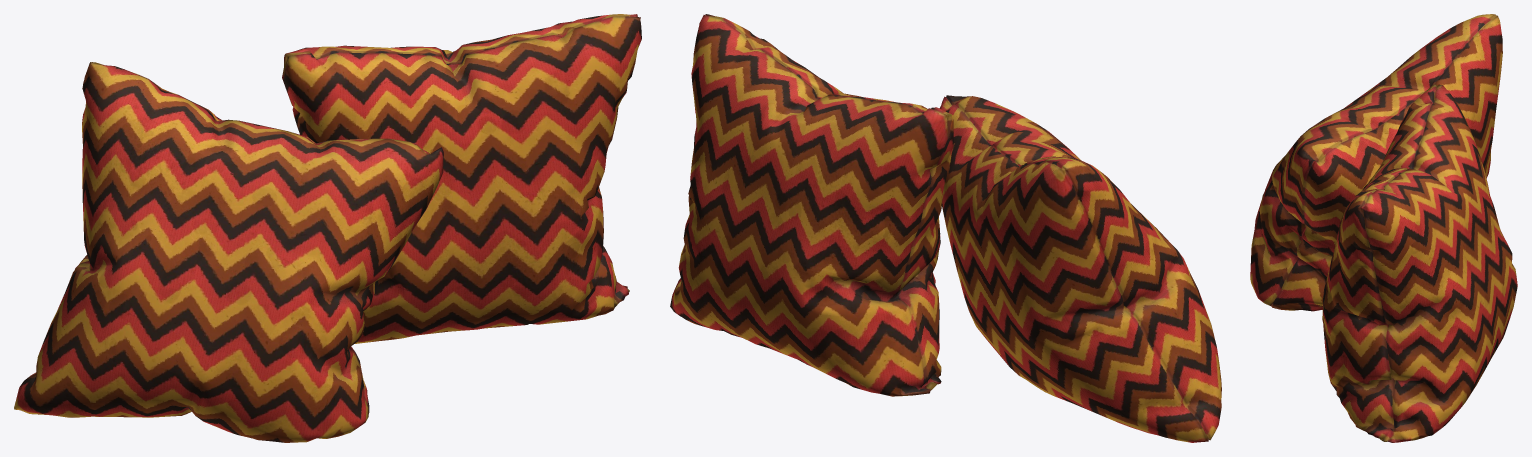
Rendered from web.gltf.
3 renders of one model, left to right at view 1: azimuth 30°, elevation 25°; view 2: azimuth 150°, elevation 25°; view 3: azimuth 270°, elevation 25°, orthographic. The views are drawn at different scales.
Parts seen in each view (by area): view 1: throw_pillows_01_pillow01, throw_pillows_01_pillow02; view 2: throw_pillows_01_pillow02, throw_pillows_01_pillow01; view 3: throw_pillows_01_pillow02, throw_pillows_01_pillow01.
Boxes of the visible parts, x1,y1,x2,y2 form: throw_pillows_01_pillow01: (14, 62, 443, 442); throw_pillows_01_pillow02: (282, 14, 641, 343); throw_pillows_01_pillow02: (670, 14, 953, 396); throw_pillows_01_pillow01: (939, 95, 1221, 442); throw_pillows_01_pillow02: (1322, 84, 1517, 442); throw_pillows_01_pillow01: (1250, 14, 1502, 311).
Bounding box in the file's own units: 0.9401 × 0.4502 × 0.4519.
Materials: 1 (1 with a texture image).
